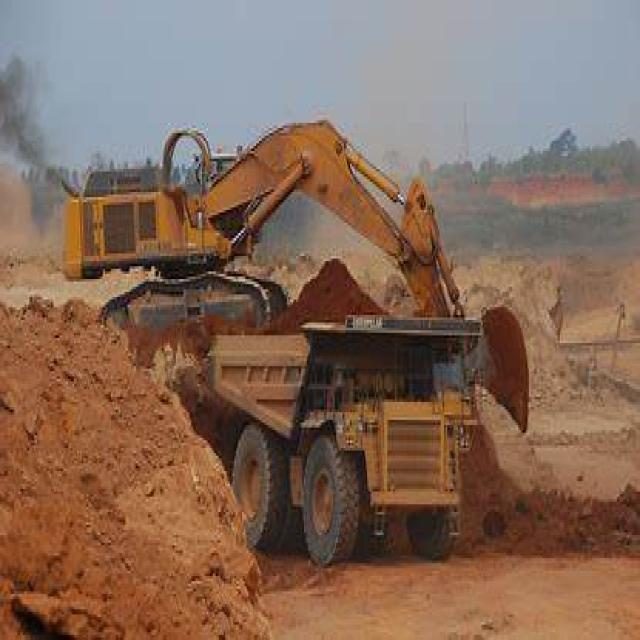dump_truck: (193, 286, 470, 606)
excavator: (54, 116, 534, 446)
